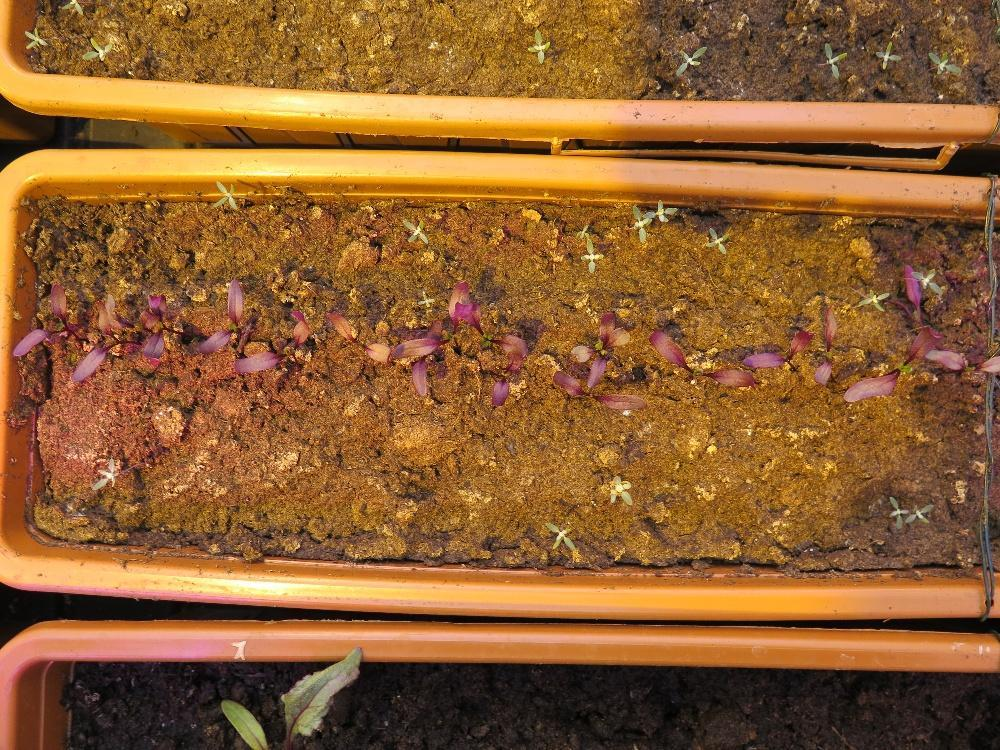weed: (543, 519, 576, 554), (89, 455, 118, 492), (673, 44, 706, 76), (927, 49, 961, 76), (822, 41, 847, 77), (855, 286, 889, 312), (399, 216, 429, 245), (526, 27, 550, 63), (873, 40, 902, 69), (210, 178, 236, 210), (80, 35, 112, 61), (703, 224, 729, 255), (22, 25, 48, 49), (415, 287, 435, 307)
